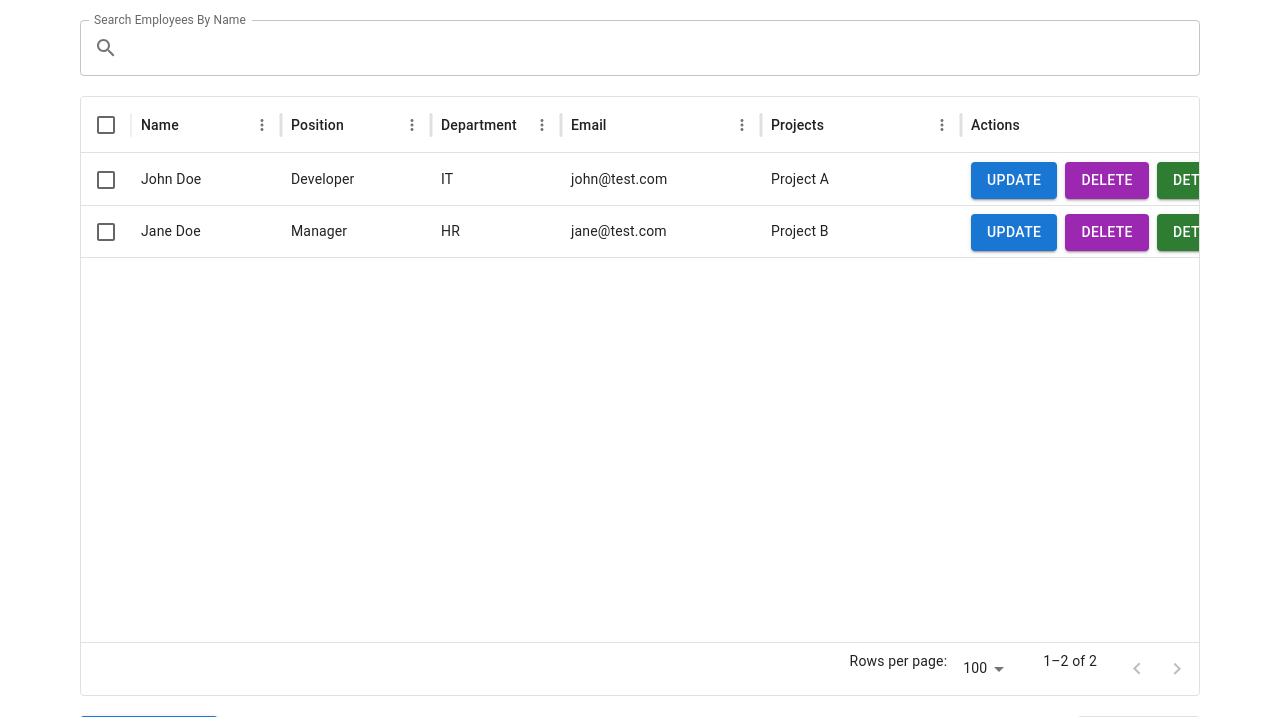
Test case: ListEmployeesComponent › filters employees by name
Expected: the text "John Doe" is shown, 141,171 -> 201,187
In the field labelled "Search Employees By Name": x=663, y=48 126,20 -> 1200,76, type "John"
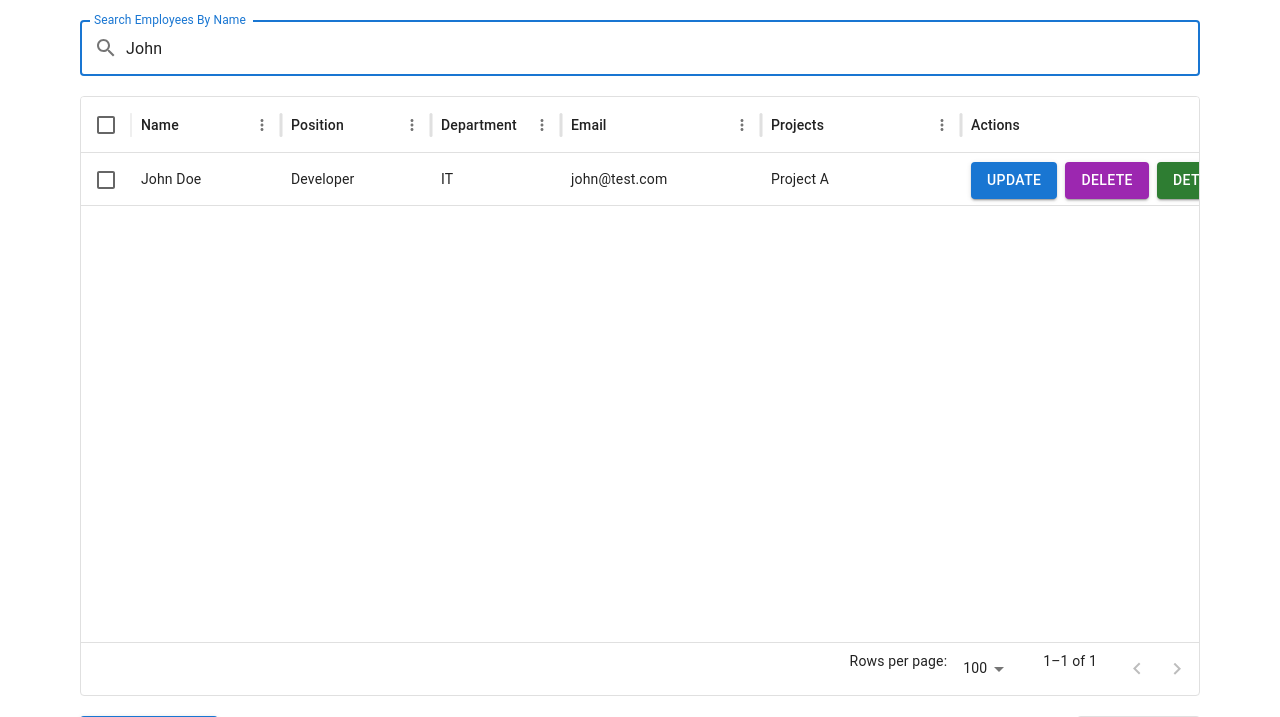
Expected: the text "John Doe" is shown, 141,171 -> 201,187
Now the text "Jane Doe" is gone
